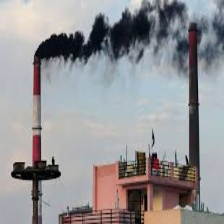smoke: (34, 3, 222, 65)
